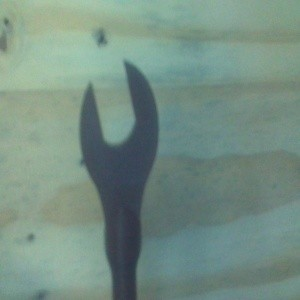spanner: (79, 58, 160, 300)
